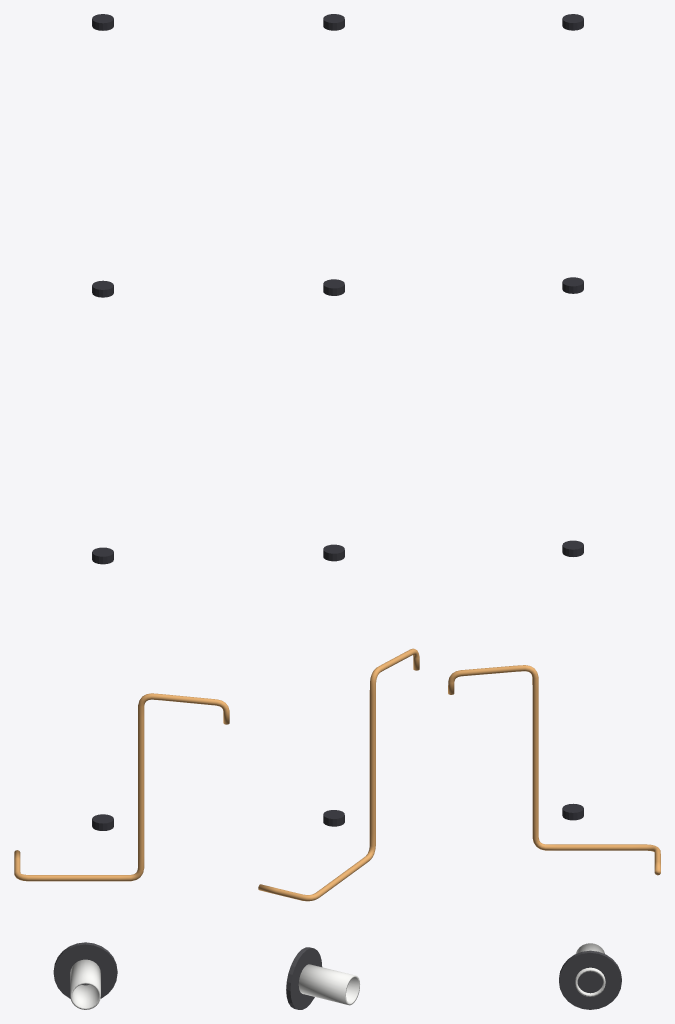
The model's file is pipes_hvac__hvac__9184bdf7.glb.
The picture shows the model from 3 angles, left to right: view 1: azimuth 90°, elevation 25°; view 2: azimuth 150°, elevation 25°; view 3: azimuth 270°, elevation 25°; orthographic projection.
Visible parts, largest first — view 1: cable_hvac_disconnect_feed, seal_hvac_wall, sleeve_hvac_wall; view 2: cable_hvac_disconnect_feed, sleeve_hvac_wall, seal_hvac_wall; view 3: cable_hvac_disconnect_feed, seal_hvac_wall, sleeve_hvac_wall.
Part boxes in pixels (box(x1,y1,x2,y2)): cable_hvac_disconnect_feed: box(14, 693, 229, 881); seal_hvac_wall: box(53, 942, 117, 998); sleeve_hvac_wall: box(70, 959, 100, 1009); cable_hvac_disconnect_feed: box(258, 648, 419, 901); sleeve_hvac_wall: box(298, 964, 359, 1005); seal_hvac_wall: box(286, 947, 322, 1009); cable_hvac_disconnect_feed: box(448, 665, 660, 875); seal_hvac_wall: box(559, 950, 621, 1009); sleeve_hvac_wall: box(575, 943, 605, 996).
Bounding box in the file's own units: 0.1621 × 2.61 × 0.5128.
